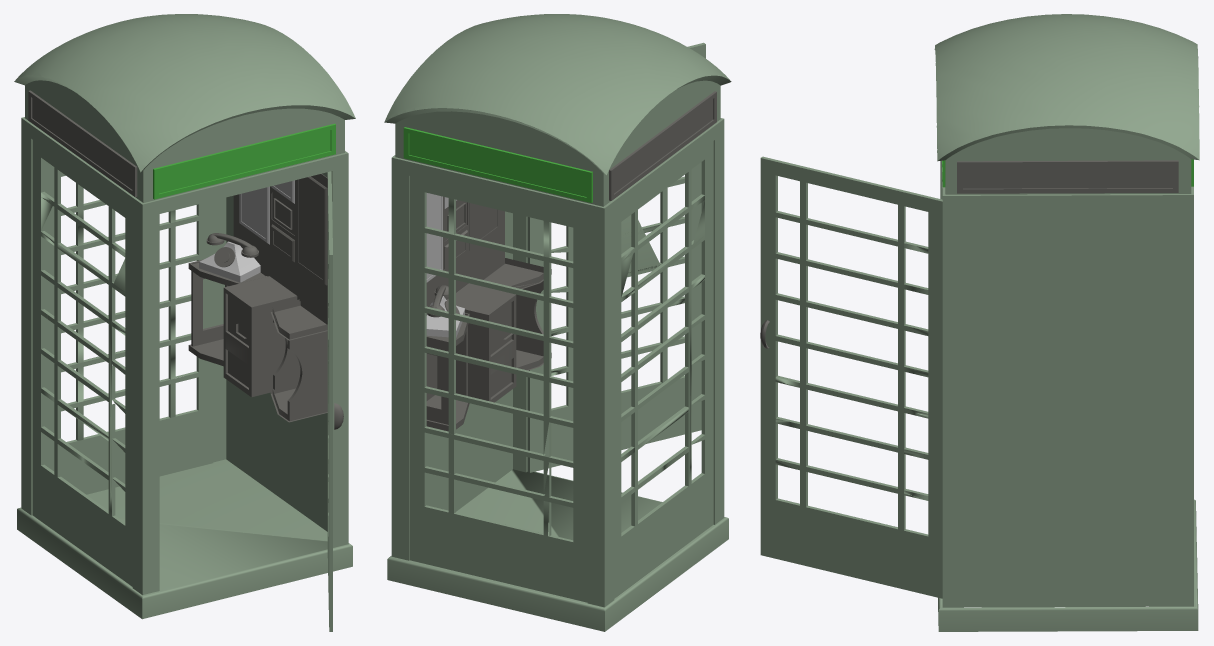
File: telephone_booth.gltf
3 views of the same model, side by side, from view 1: azimuth 30°, elevation 25°; view 2: azimuth 150°, elevation 25°; view 3: azimuth 270°, elevation 25° (orthographic). The views are drawn at different scales.
Visible parts, largest first — view 1: 3d-model.009, 3d-model, 3d-model.015, 3d-model.018, 3d-model.006, 3d-model.005, 3d-model.013, 3d-model.012, 3d-model.011, 3d-model.021, 3d-model.019, 3d-model.014; view 2: 3d-model.009, 3d-model, 3d-model.015, 3d-model.008, 3d-model.018, 3d-model.005, 3d-model.012, 3d-model.013, 3d-model.011; view 3: 3d-model.009, 3d-model, 3d-model.007.
Part boxes in pixels (x1,y1,x2,y2): 3d-model.009: [17, 117, 352, 631]; 3d-model: [14, 14, 355, 202]; 3d-model.015: [188, 173, 327, 422]; 3d-model.018: [223, 276, 297, 397]; 3d-model.006: [153, 123, 335, 199]; 3d-model.005: [28, 90, 137, 197]; 3d-model.013: [296, 176, 327, 285]; 3d-model.012: [239, 186, 269, 244]; 3d-model.011: [199, 241, 260, 282]; 3d-model.021: [271, 192, 294, 235]; 3d-model.019: [206, 233, 258, 257]; 3d-model.014: [271, 224, 294, 262]; 3d-model.009: [387, 42, 728, 631]; 3d-model: [384, 14, 731, 206]; 3d-model.015: [426, 196, 551, 431]; 3d-model.008: [403, 127, 592, 202]; 3d-model.018: [447, 283, 516, 402]; 3d-model.005: [609, 91, 716, 200]; 3d-model.012: [426, 193, 442, 282]; 3d-model.013: [469, 203, 499, 250]; 3d-model.011: [426, 296, 464, 337]; 3d-model.009: [760, 156, 1198, 631]; 3d-model: [934, 14, 1199, 194]; 3d-model.007: [957, 160, 1178, 193].
Size of the model in its own units: 4.4 by 9.68 by 7.27.
